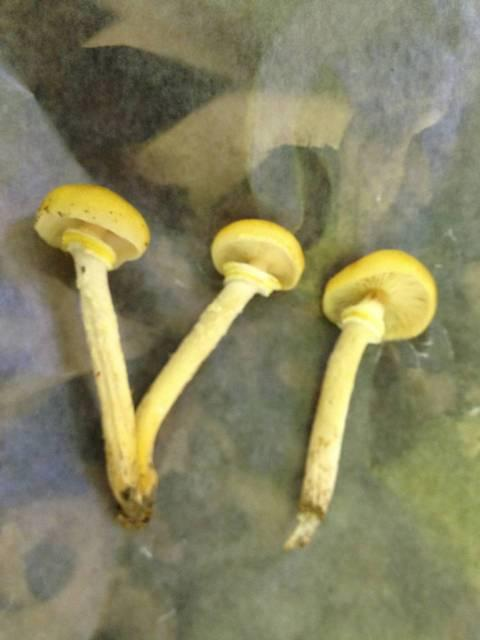edible_mushroom: (130, 216, 305, 523), (281, 246, 438, 551), (32, 181, 153, 525)
